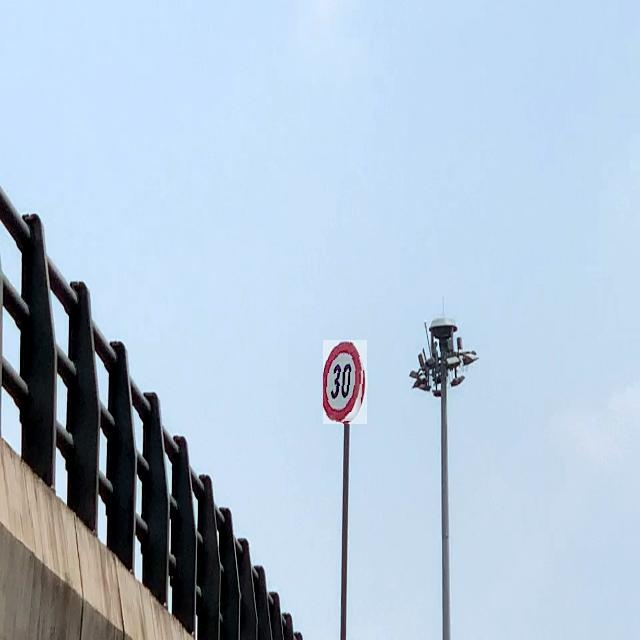bien_cam: (323, 340, 368, 424)
